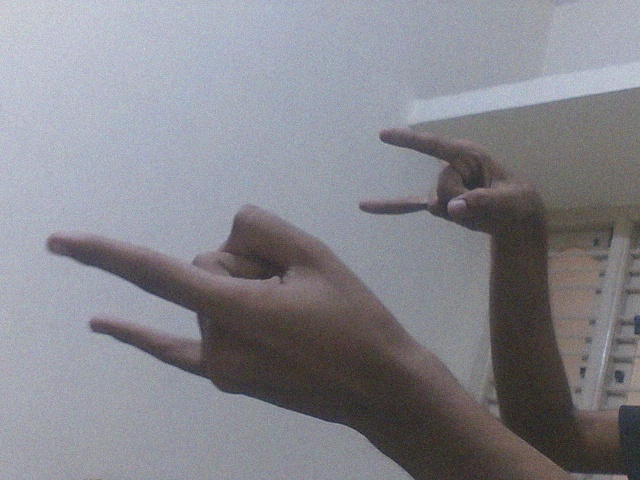hand: (42, 202, 416, 430), (357, 125, 550, 236)
